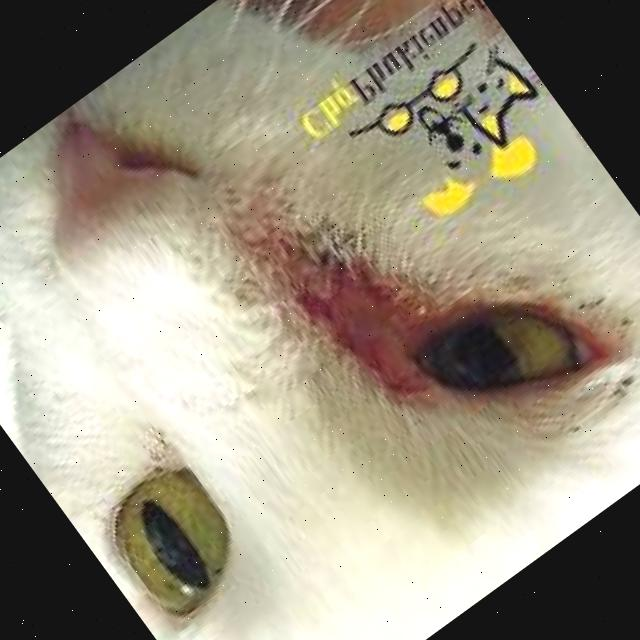cat-ringworm: (286, 242, 436, 410)
